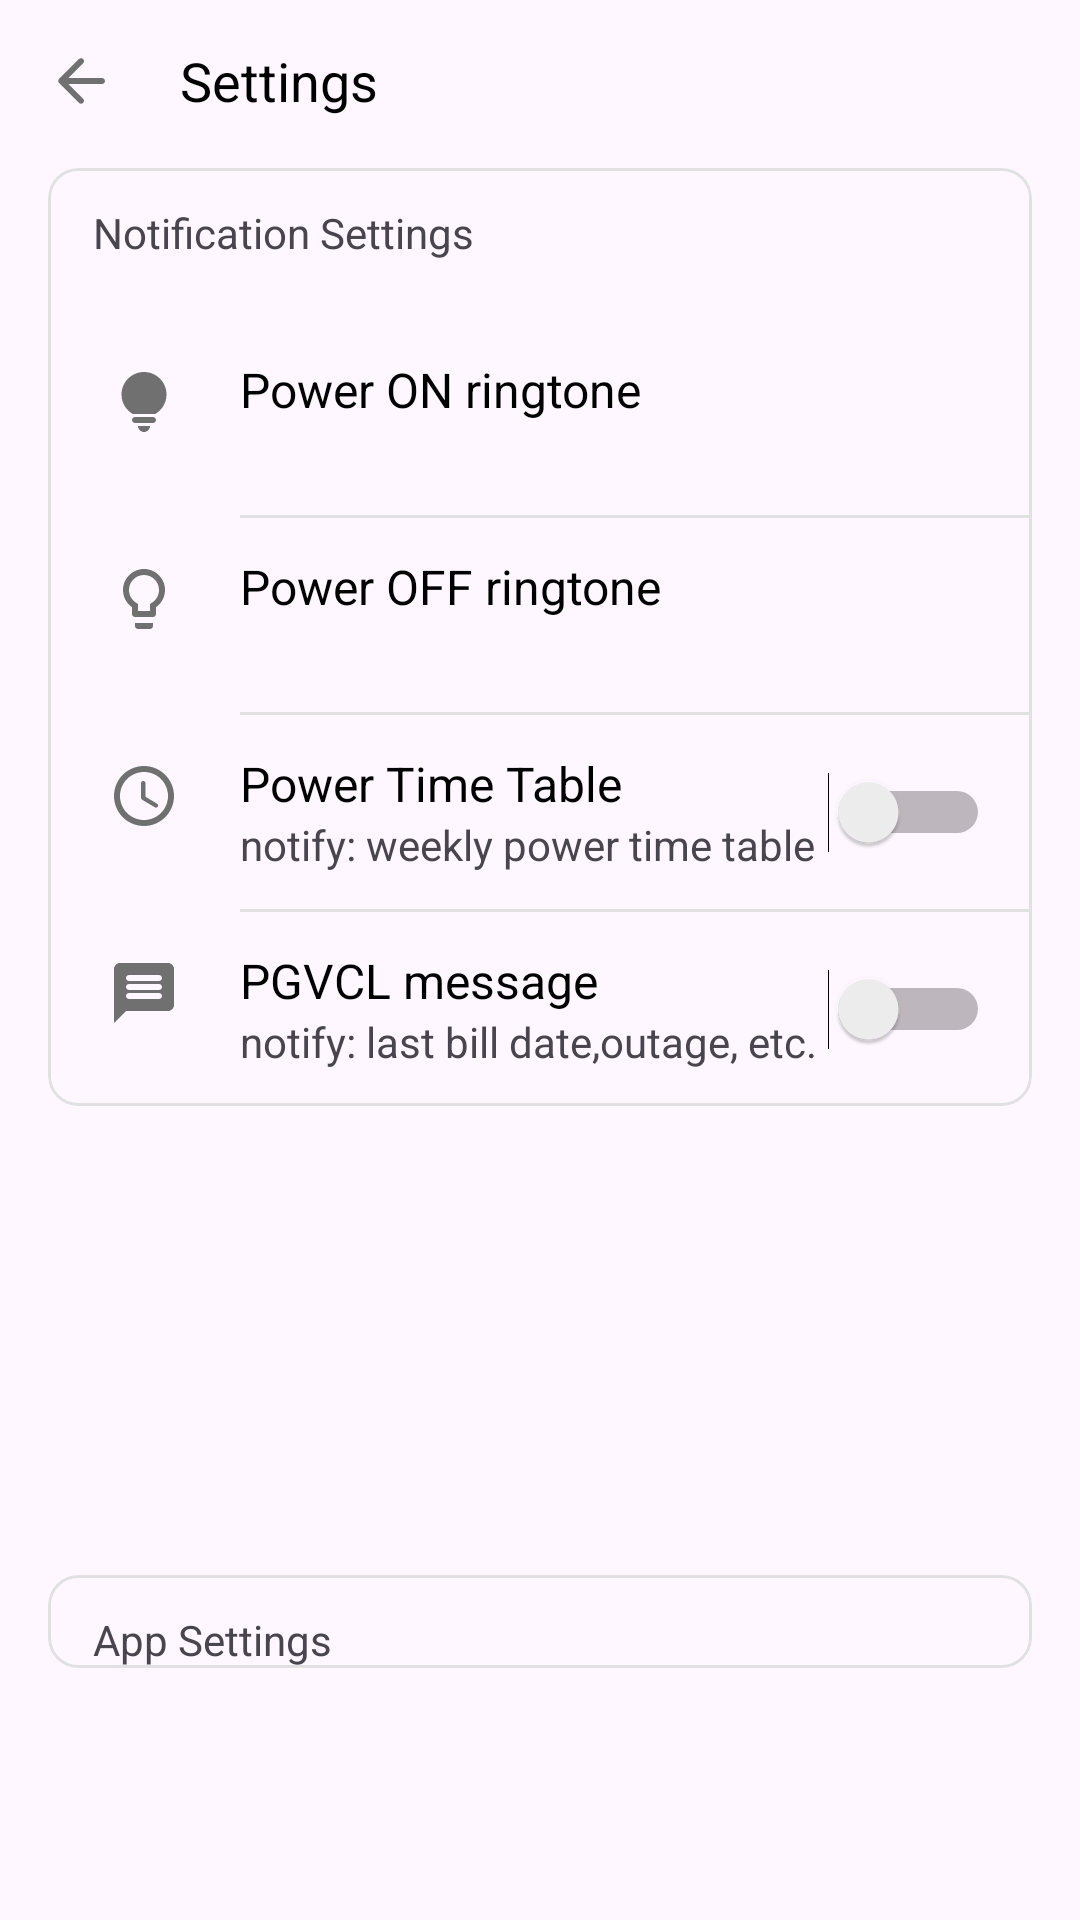

Icon bounding boxes for this 1080w x 1920h phone screenshot, format (x1, y1, x2, y2):
arrow back: (58, 58, 105, 104)
lamp off: (123, 569, 165, 629)
lamp on: (121, 372, 167, 432)
